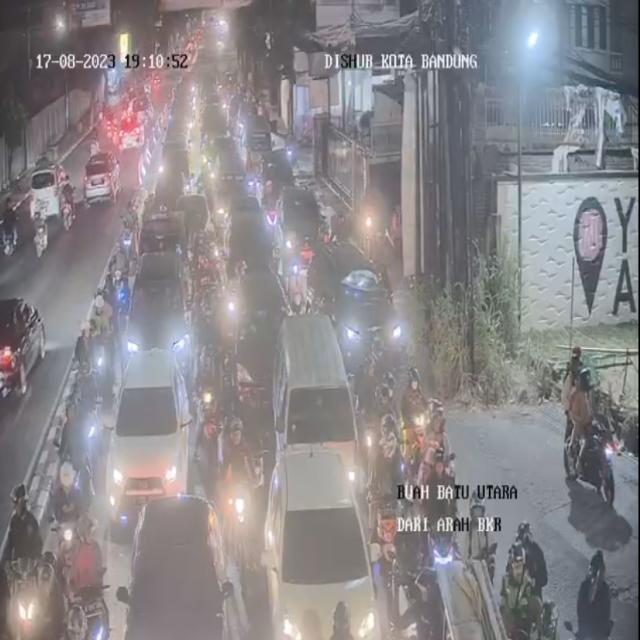cars: (264, 442, 378, 637), (275, 313, 359, 503), (108, 354, 194, 539), (126, 487, 226, 639), (126, 247, 194, 388), (408, 563, 518, 640), (336, 263, 406, 382), (276, 182, 318, 280), (139, 195, 188, 268), (173, 189, 209, 236), (198, 101, 228, 147)
motorcycle: (0, 485, 39, 621), (223, 415, 258, 564), (504, 537, 549, 640), (573, 546, 613, 638), (54, 462, 81, 573), (88, 287, 114, 400), (53, 402, 83, 495), (196, 228, 223, 328), (80, 363, 103, 479), (397, 362, 425, 454), (218, 258, 246, 346), (197, 346, 220, 453), (105, 236, 130, 330), (425, 398, 454, 478), (68, 319, 94, 400), (198, 296, 220, 363), (330, 593, 359, 640), (120, 215, 142, 265), (208, 213, 227, 265), (211, 186, 231, 235), (197, 224, 215, 278)
